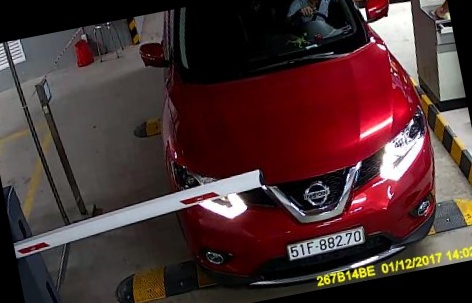plate: (279, 222, 378, 262)
